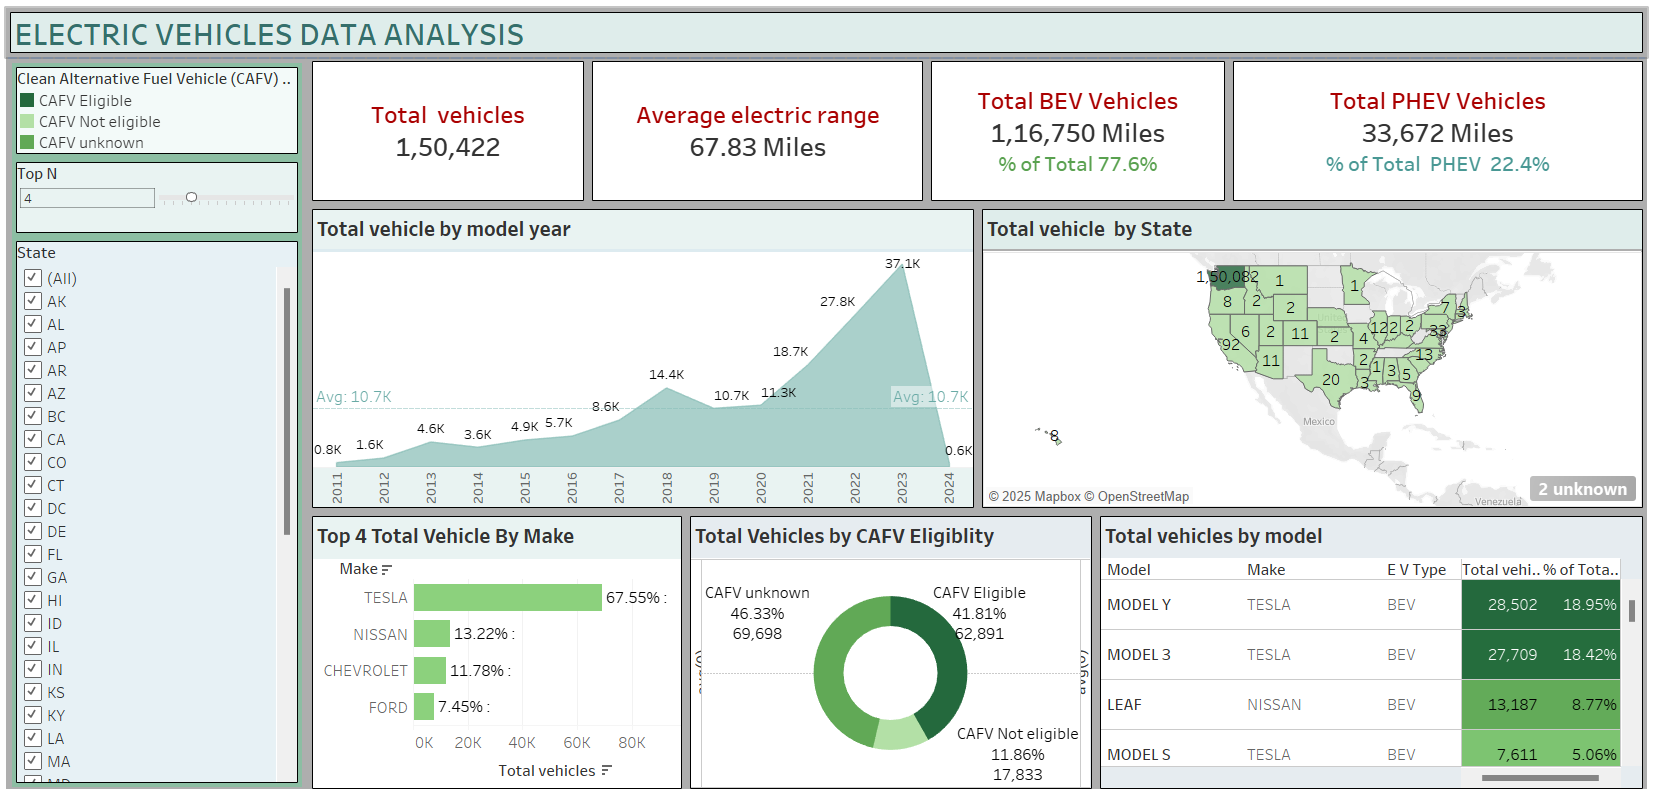

The dashboard page shown, as its layout file describes it:
{"tool":"tableau","page":{"name":"ELECTRIC VEHICLES DATA ANALYSIS","canvas":[1000,1000],"units":"permille","ordinal":0},"visuals":[{"type":"title","box":[4.8,10,990.3,61.2]},{"type":"worksheet","title":"Total vehicle","mark":"Automatic","box":[187.3,71.2,168.8,184.8]},{"type":"worksheet","title":"avg electricle range","mark":"Automatic","box":[356.1,71.2,204.5,184.8]},{"type":"worksheet","title":"Total BEV vehivles","mark":"Automatic","box":[560.6,71.2,182.1,184.8]},{"type":"worksheet","title":"Total PHEV  vehivles ","mark":"Automatic","box":[742.7,71.2,252.5,184.8]},{"type":"legend","title":"Total Vehicles by CAFV Eligiblity","param":"[federated.0pjsct206gpsap18n5q7f17r0znb].[none:Clean Alternative Fuel Vehicle (C","box":[8.4,78.7,175.3,118.6]},{"type":"parameter","param":"[Parameters].[Parameter 1]","box":[8.4,197.3,175.3,98.6]},{"type":"worksheet","title":"Total Vehicle BY Model Year","mark":"Area","rows":["Calculation_54887666875953152","Calculation_54887666875953152"],"cols":["Model Year"],"box":[187.1,255.9,404.3,383.3]},{"type":"worksheet","title":"Total vehicle  by State","mark":"Automatic","box":[591.4,255.9,403.7,383.3]},{"type":"filter","title":"Top 10 Total Vehicle by  Make ","param":"[federated.0pjsct206gpsap18n5q7f17r0znb].[none:State:nk]","box":[8.4,295.9,175.3,686.6]},{"type":"worksheet","title":"Top 10 Total Vehicle by  Make ","mark":"Automatic","rows":["Make"],"cols":["Calculation_54887666875953152"],"box":[187.3,638.7,228.1,351.3]},{"type":"worksheet","title":"Total Vehicles by CAFV Eligiblity","mark":"Pie","rows":["Calculation_1444529627603722241","Calculation_1444529627603722241"],"box":[415.5,638.7,247.2,351.3]},{"type":"worksheet","title":"Total vehicles by model","mark":"Square","rows":["Model","Make","Electric Vehicle Type"],"box":[662.6,638.7,332.5,351.3]}]}

Visuals, with their boxes on the dashboard's canvas, which has no fixed pixel size, in thousandths of its width and height (x1, y1, x2, y2). These are canvas units, not pixel positions in the 1654x789 screenshot, which may show the page scaled, cropped or inside an application window:
title: (left=5, top=10, right=995, bottom=71)
"Total vehicle" worksheet: (left=187, top=71, right=356, bottom=256)
"avg electricle range" worksheet: (left=356, top=71, right=561, bottom=256)
"Total BEV vehivles" worksheet: (left=561, top=71, right=743, bottom=256)
"Total PHEV  vehivles " worksheet: (left=743, top=71, right=995, bottom=256)
"Total Vehicles by CAFV Eligiblity" legend: (left=8, top=79, right=184, bottom=197)
parameter: (left=8, top=197, right=184, bottom=296)
"Total Vehicle BY Model Year" worksheet (Area marks): (left=187, top=256, right=591, bottom=639)
"Total vehicle  by State" worksheet: (left=591, top=256, right=995, bottom=639)
"Top 10 Total Vehicle by  Make " filter: (left=8, top=296, right=184, bottom=982)
"Top 10 Total Vehicle by  Make " worksheet: (left=187, top=639, right=415, bottom=990)
"Total Vehicles by CAFV Eligiblity" worksheet (Pie marks): (left=416, top=639, right=663, bottom=990)
"Total vehicles by model" worksheet (Square marks): (left=663, top=639, right=995, bottom=990)
